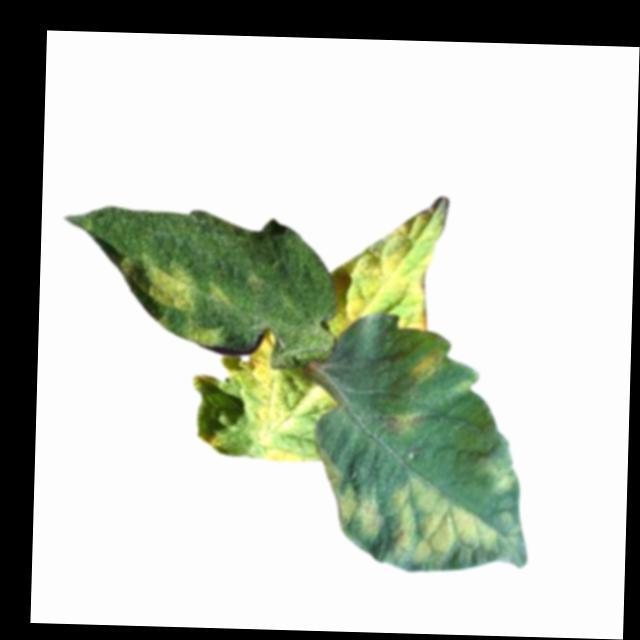Leaf_Mold: (324, 192, 448, 332), (337, 474, 520, 568), (231, 327, 339, 446), (118, 248, 197, 312), (475, 442, 515, 494), (177, 317, 227, 348), (405, 345, 442, 382), (379, 406, 422, 437), (260, 445, 302, 463)
